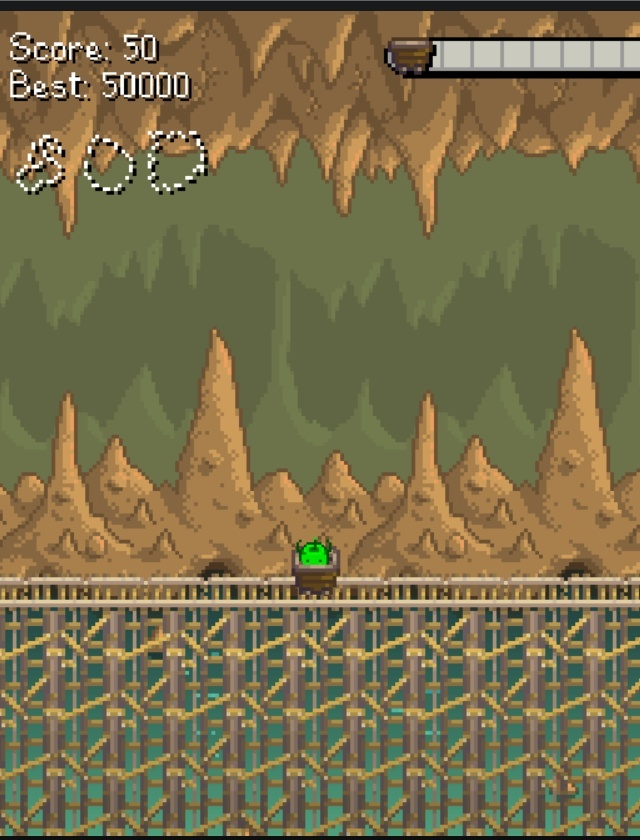minecart: (292, 538, 338, 593)
tracks: (0, 571, 271, 616), (365, 571, 636, 616)
